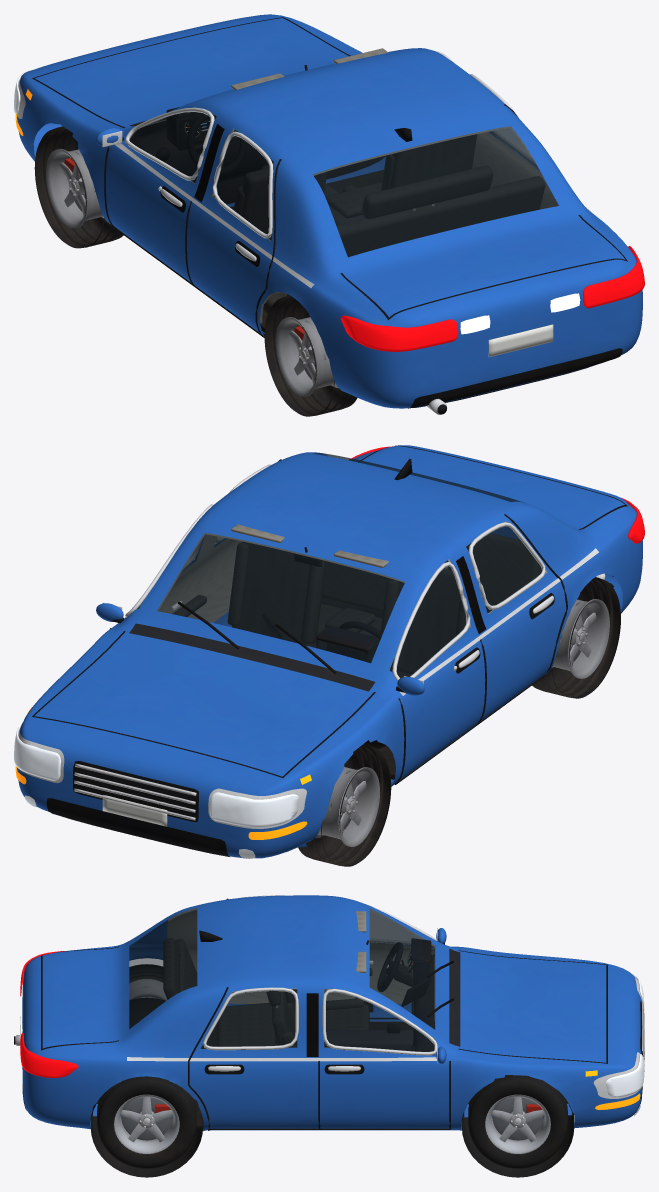
The model's file is Sedan.glb.
3 renders of one model, top to bottom at view 1: azimuth 30°, elevation 25°; view 2: azimuth 150°, elevation 25°; view 3: azimuth 270°, elevation 25°, orthographic. The views are drawn at different scales.
Visible parts, largest first — view 1: Sedan_Body, Sedan_Glass, Sedan_Interior, Sedan_Trim, Sedan_Wheel3, Sedan_Wheel1, Sedan_Lights, Sedan_Steer; view 2: Sedan_Body, Sedan_Interior, Sedan_Glass, Sedan_Trim, Sedan_Wheel1, Sedan_Wheel3, Sedan_Lights; view 3: Sedan_Body, Sedan_Glass, Sedan_Interior, Sedan_Trim, Sedan_Wheel2, Sedan_Wheel4, Sedan_Lights, Sedan_Wheel3, Sedan_Steer.
Part boxes in pixels (x1,y1,x2,y2): Sedan_Body: (17, 14, 642, 408); Sedan_Glass: (126, 112, 558, 257); Sedan_Interior: (125, 48, 558, 332); Sedan_Trim: (16, 17, 627, 414); Sedan_Wheel3: (264, 295, 357, 416); Sedan_Wheel1: (34, 126, 123, 248); Sedan_Lights: (14, 64, 644, 351); Sedan_Steer: (187, 113, 247, 175); Sedan_Body: (17, 445, 642, 858); Sedan_Interior: (157, 521, 547, 779); Sedan_Glass: (137, 453, 541, 678); Sedan_Trim: (18, 445, 627, 856); Sedan_Wheel1: (298, 744, 391, 866); Sedan_Wheel3: (532, 577, 620, 698); Sedan_Lights: (14, 446, 644, 858); Sedan_Body: (22, 895, 641, 1131); Sedan_Glass: (129, 908, 435, 1055); Sedan_Interior: (163, 908, 435, 1129); Sedan_Trim: (14, 895, 644, 1177); Sedan_Wheel2: (468, 1075, 567, 1168); Sedan_Wheel4: (97, 1076, 196, 1168); Sedan_Lights: (20, 951, 644, 1115); Sedan_Wheel3: (129, 964, 167, 1000); Sedan_Steer: (377, 942, 403, 991).
Size of the model in its own units: 7.68 by 5.23 by 15.81.
13 materials, 8 textured.
